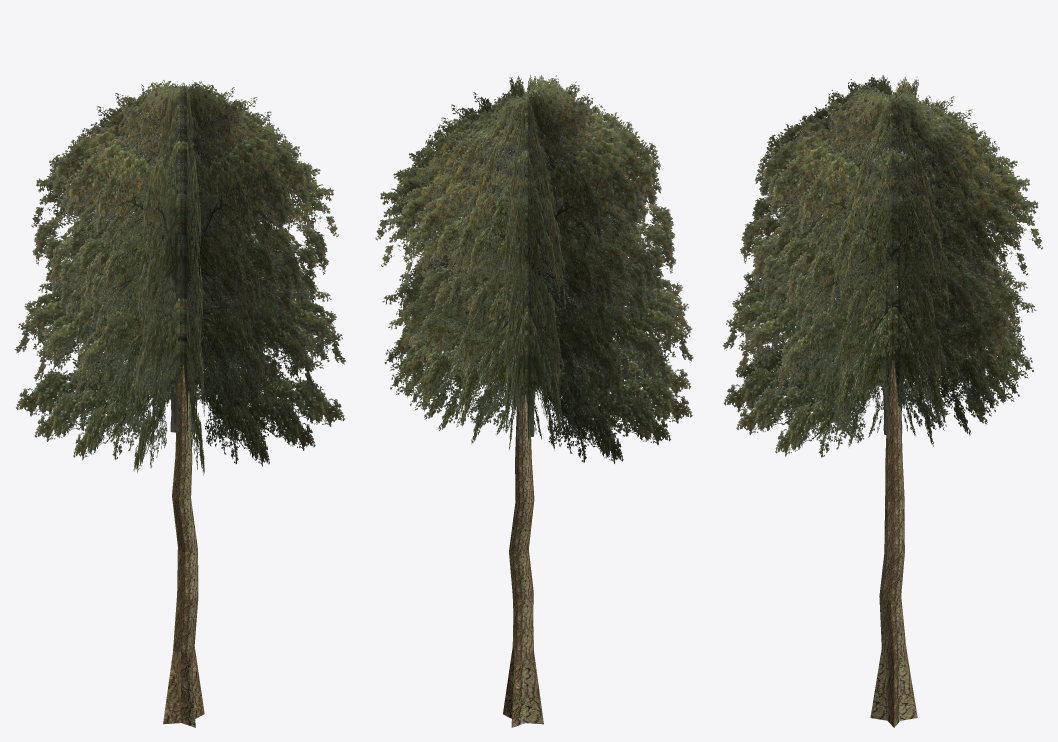
File: tree1.fbx
3 views of the same model, side by side, from view 1: azimuth 30°, elevation 25°; view 2: azimuth 150°, elevation 25°; view 3: azimuth 270°, elevation 25° (orthographic).
Visible parts, largest first — view 1: tree1; view 2: tree1; view 3: tree1.
Part boxes in pixels (x1,y1,x2,y2): tree1: [14, 80, 346, 727]; tree1: [375, 74, 693, 727]; tree1: [722, 74, 1042, 727].
Size of the model in its own units: 67.71 by 147 by 67.71.
2 materials, 2 textured.
